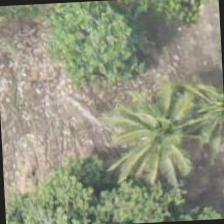Kelapa_Sawit: (116, 83, 210, 178)
